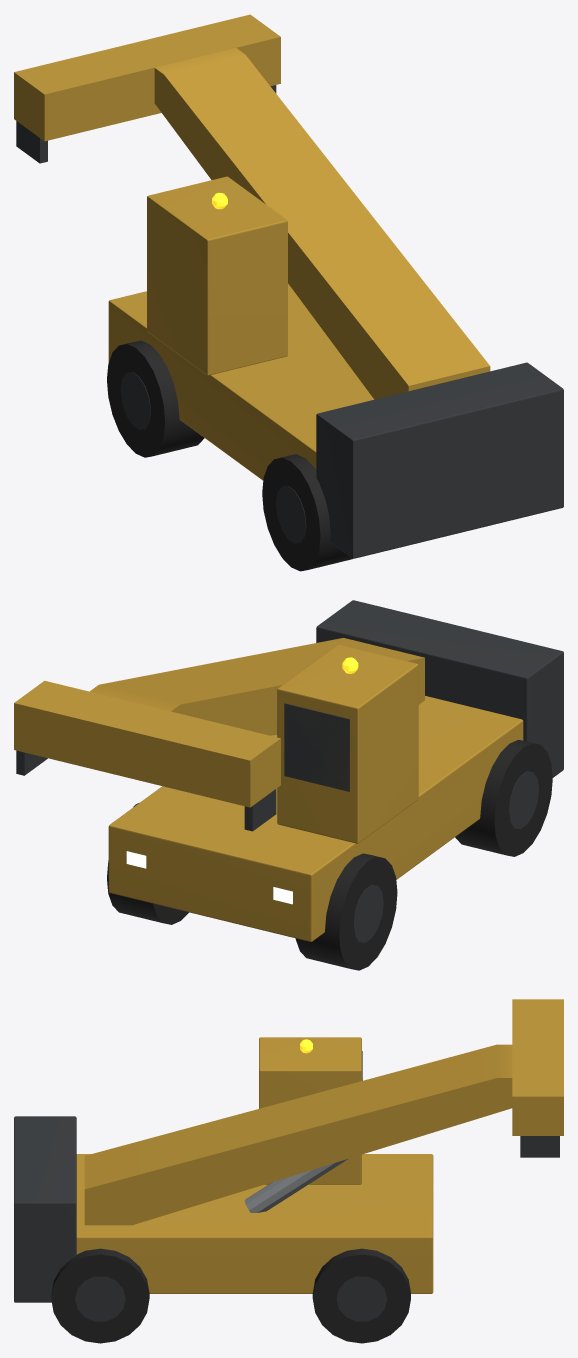
The model's file is veh_reach_stacker.glb.
3 views of the same model, one above another, from view 1: azimuth 30°, elevation 25°; view 2: azimuth 150°, elevation 25°; view 3: azimuth 270°, elevation 25° (orthographic). The views are drawn at different scales.
Visible parts, largest first — view 1: Stacker; view 2: Stacker; view 3: Stacker.
Part boxes in pixels (x1,y1,x2,y2): Stacker: (14, 14, 563, 571); Stacker: (14, 600, 563, 970); Stacker: (14, 999, 563, 1343).
Size of what is drawn, in the model's own units: 2.9 by 3.45 by 6.94.
